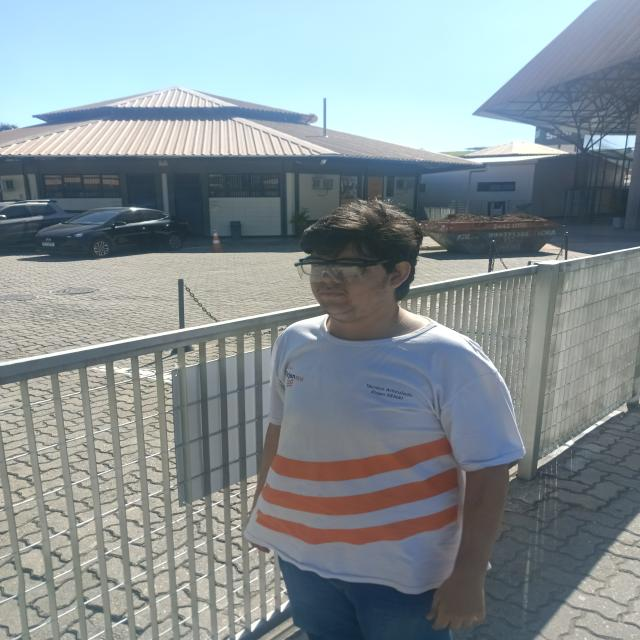oculos-epi: (295, 255, 389, 283)
